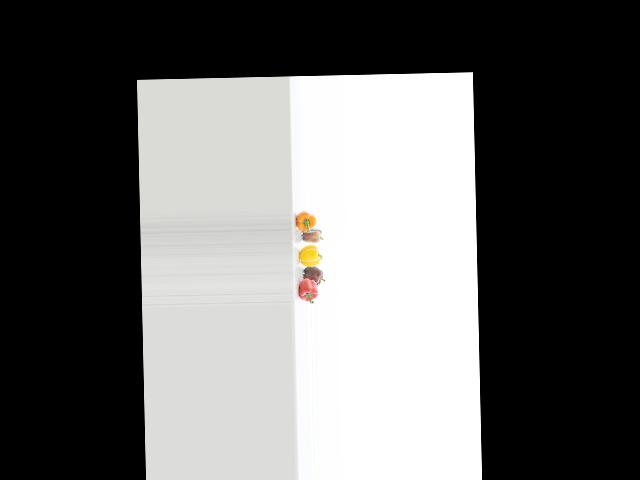bell_pepper: (293, 210, 323, 233)
